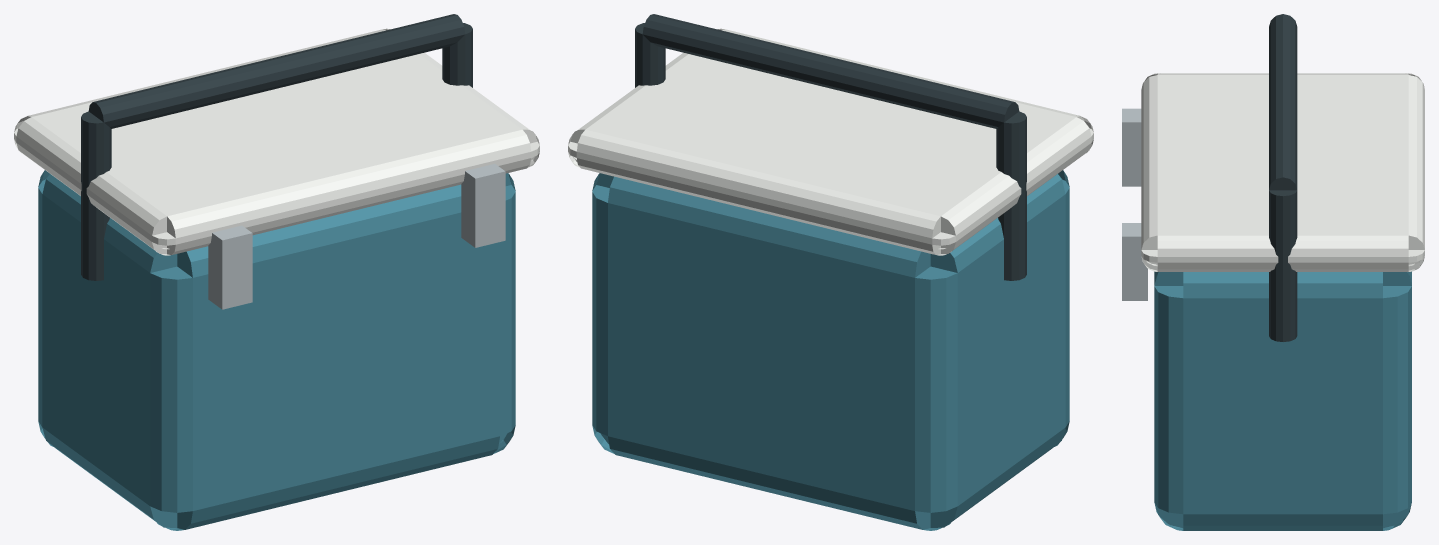
Rendered from basketball-club-and-street-courts-drinks-cooler-2c338be3__28560.glb.
3 views of the same model, side by side, from view 1: azimuth 30°, elevation 25°; view 2: azimuth 150°, elevation 25°; view 3: azimuth 270°, elevation 25° (orthographic). The views are drawn at different scales.
Parts seen in each view (by area): view 1: drinks-cooler; view 2: drinks-cooler; view 3: drinks-cooler.
Boxes of the visible parts, x1=… form: drinks-cooler: x1=14, y1=14, x2=539, y2=530; drinks-cooler: x1=568, y1=14, x2=1093, y2=530; drinks-cooler: x1=1122, y1=14, x2=1424, y2=530.
Size of the model in its own units: 0.644 by 0.622 by 0.47.
